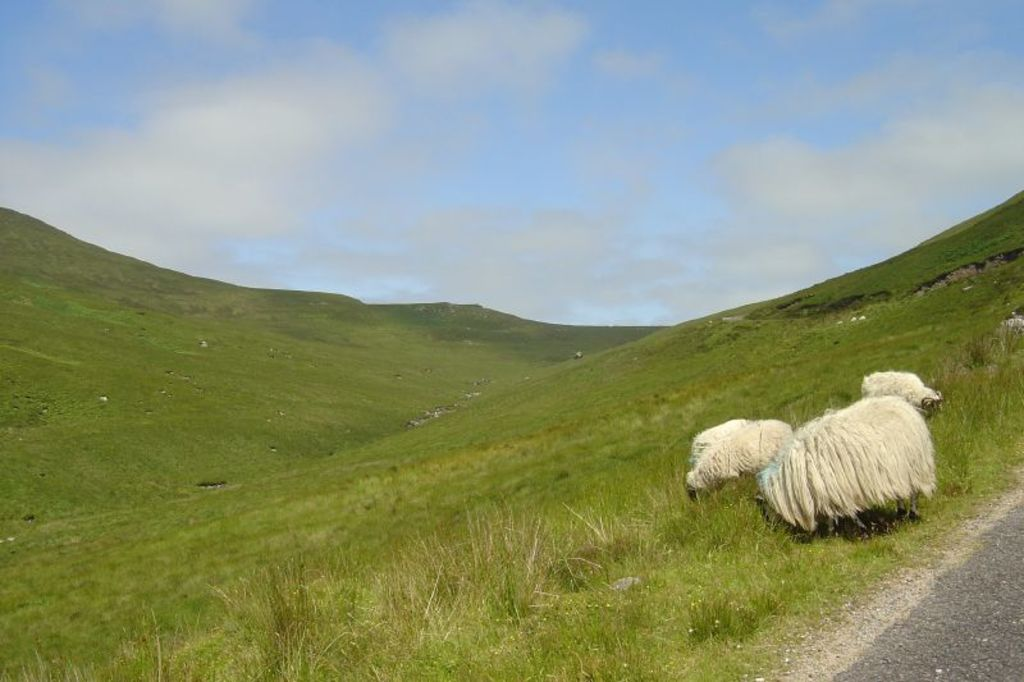sheep: (751, 396, 939, 541)
